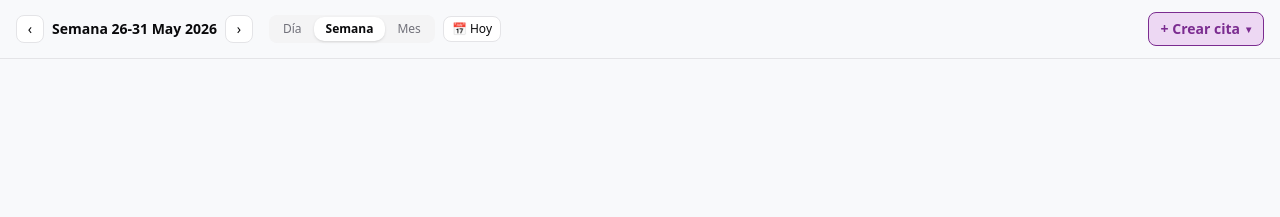
Test: AgendaToolbar › clicking a dropdown item closes the dropdown
Click the button with test id "agenda-cta-crear-cita" at (1206, 29), box x1=1148 y1=12 x2=1264 y2=46
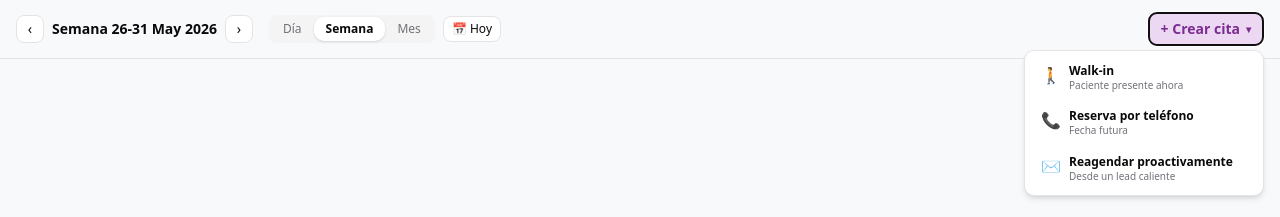
expect the menu with test id "agenda-cta-dropdown" is shown: met, box x1=1024 y1=50 x2=1264 y2=196
Click the text "Walk-in" at (1092, 70), box x1=1069 y1=62 x2=1114 y2=79
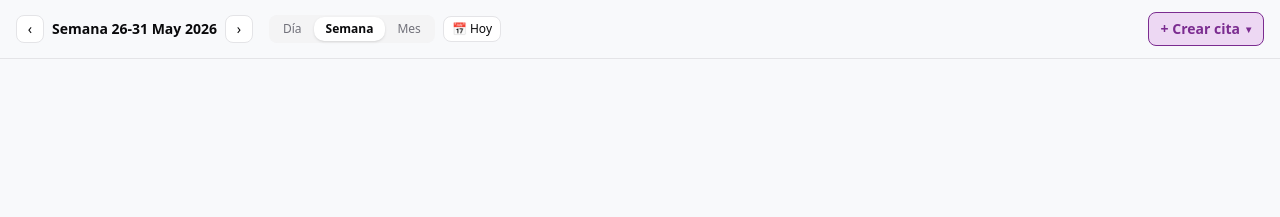
expect the menu with test id "agenda-cta-dropdown" is gone: met
